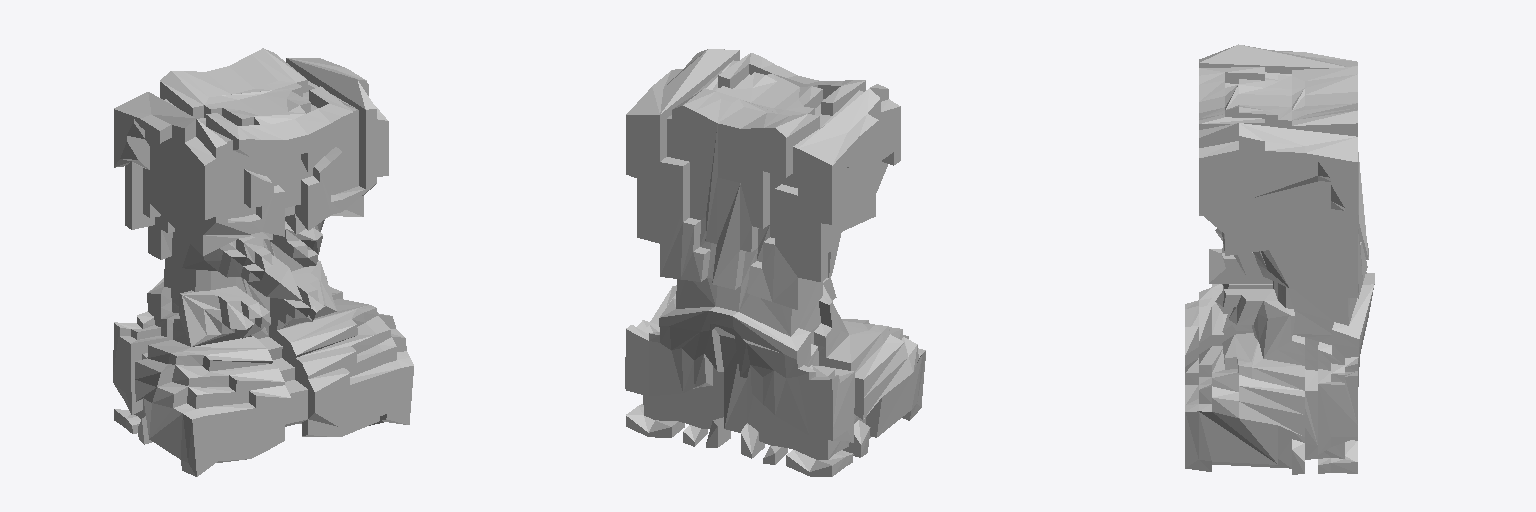
File: HeavyTripleShootBot_LOD0-2.obj
3 views of the same model, side by side, from view 1: azimuth 30°, elevation 25°; view 2: azimuth 150°, elevation 25°; view 3: azimuth 270°, elevation 25° (orthographic).
Parts seen in each view (by area): view 1: HeavyTripleShootBot_LOD0-2; view 2: HeavyTripleShootBot_LOD0-2; view 3: HeavyTripleShootBot_LOD0-2.
Part boxes in pixels (x1,y1,x2,y2): HeavyTripleShootBot_LOD0-2: (113, 48, 413, 476); HeavyTripleShootBot_LOD0-2: (625, 49, 925, 476); HeavyTripleShootBot_LOD0-2: (1185, 44, 1374, 474).
Bounding box in the file's own units: 2.17 × 2.87 × 1.43.